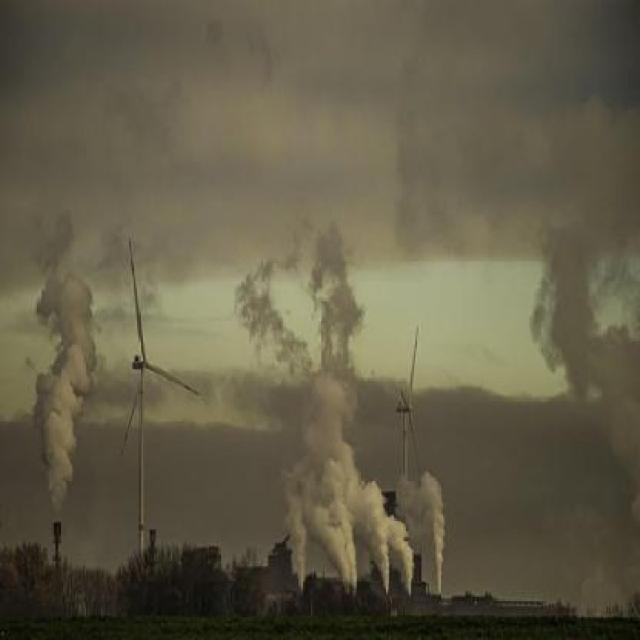smoke: (234, 220, 458, 606), (33, 177, 119, 540)
